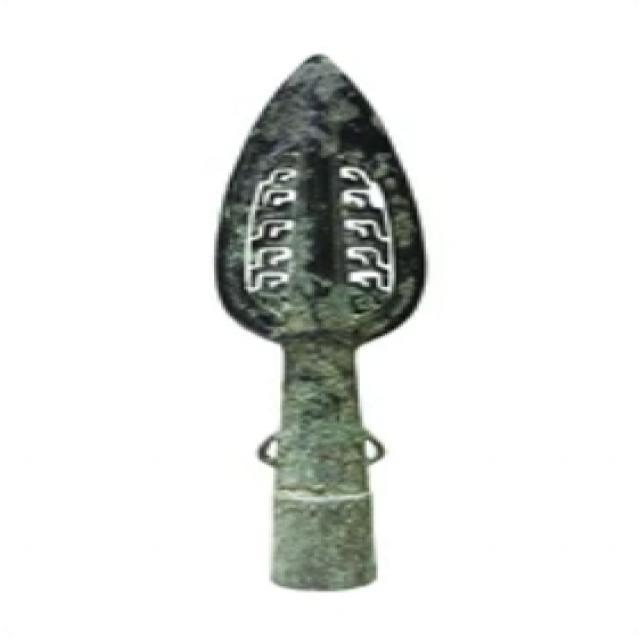spear: (190, 48, 448, 604)
